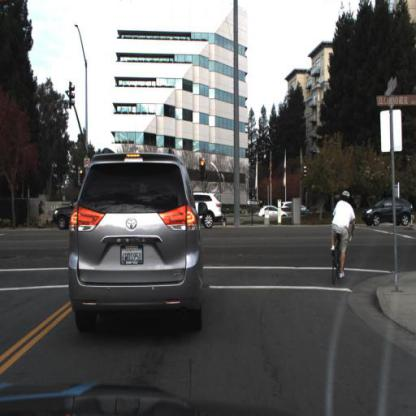biker: (329, 188, 359, 285)
car: (67, 148, 206, 340), (362, 195, 415, 232), (190, 186, 226, 230), (49, 197, 79, 232), (259, 204, 284, 221)
trafficLight-Red: (200, 159, 209, 188), (201, 161, 206, 177)
